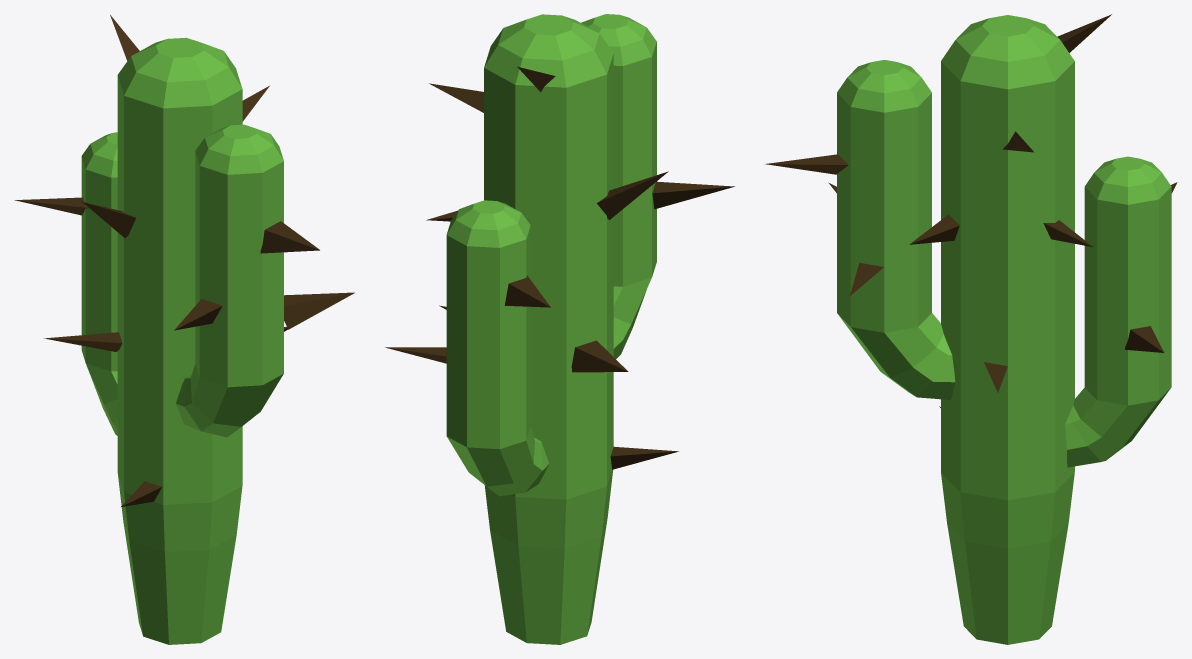
Rendered from kaktus1.fbx.
3 renders of one model, left to right at view 1: azimuth 30°, elevation 25°; view 2: azimuth 150°, elevation 25°; view 3: azimuth 270°, elevation 25°, orthographic. The views are drawn at different scales.
Visible parts, largest first — view 1: Cylinder, Cylinder.002, Cylinder.001, kolec; view 2: Cylinder, Cylinder.001, Cylinder.002, kolec; view 3: Cylinder, Cylinder.002, Cylinder.001, kolec.
Boxes of the visible parts, <box> form: Cylinder: <box>117,37,242,644</box>; Cylinder.002: <box>176,124,283,437</box>; Cylinder.001: <box>81,132,117,435</box>; kolec: <box>14,15,354,506</box>; Cylinder: <box>484,14,613,644</box>; Cylinder.001: <box>446,200,549,496</box>; Cylinder.002: <box>581,14,656,358</box>; kolec: <box>385,66,734,469</box>; Cylinder: <box>941,15,1074,644</box>; Cylinder.002: <box>837,60,955,399</box>; Cylinder.001: <box>1065,156,1171,467</box>; kolec: <box>765,14,1177,407</box>.
Size of the model in its own units: 389 by 992 by 617.
